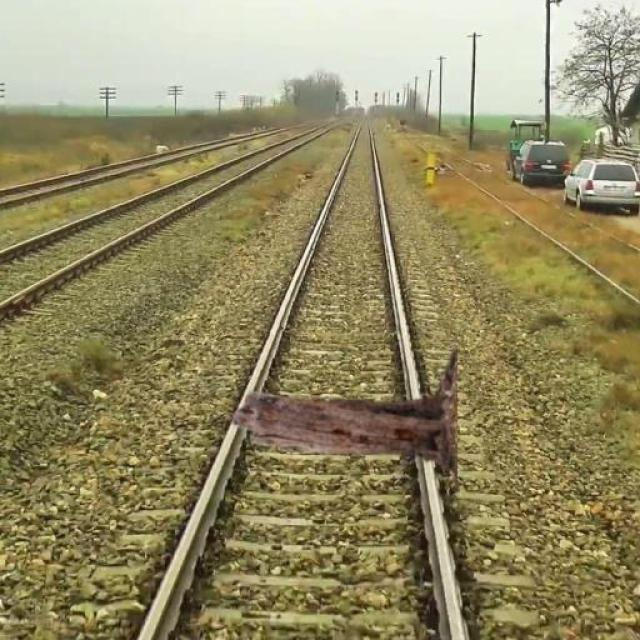Branches: (233, 376, 478, 468)
vehicle: (563, 151, 640, 217), (508, 132, 574, 187)
